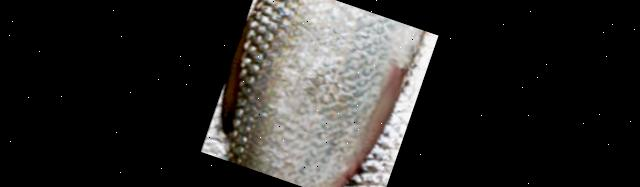Healthy Fish: (229, 0, 423, 187)
